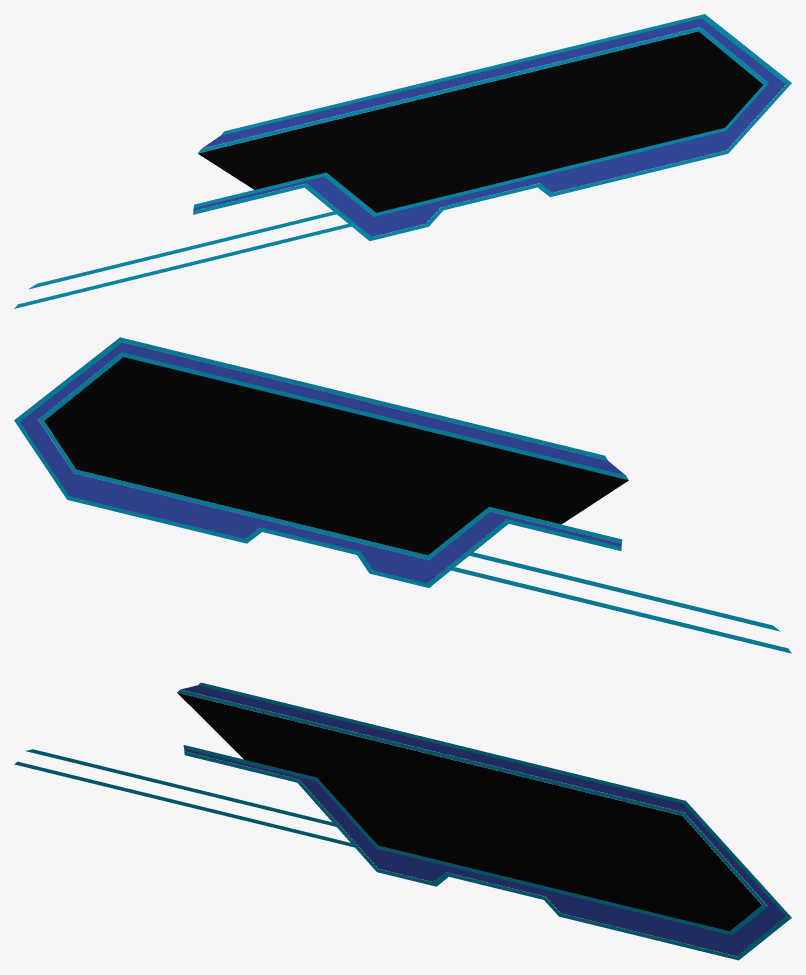
File: Select Right.fbx
3 renders of one model, top to bottom at view 1: azimuth 30°, elevation 25°; view 2: azimuth 150°, elevation 25°; view 3: azimuth 330°, elevation 25°, orthographic.
Parts seen in each view (by area): view 1: object_4; view 2: object_4; view 3: object_4.
Part boxes in pixels (box(x1,y1,x2,y2)): object_4: box(14, 14, 791, 308); object_4: box(14, 337, 791, 653); object_4: box(14, 682, 791, 960).
Size of the model in its own units: 3979 by 784 by 130.
